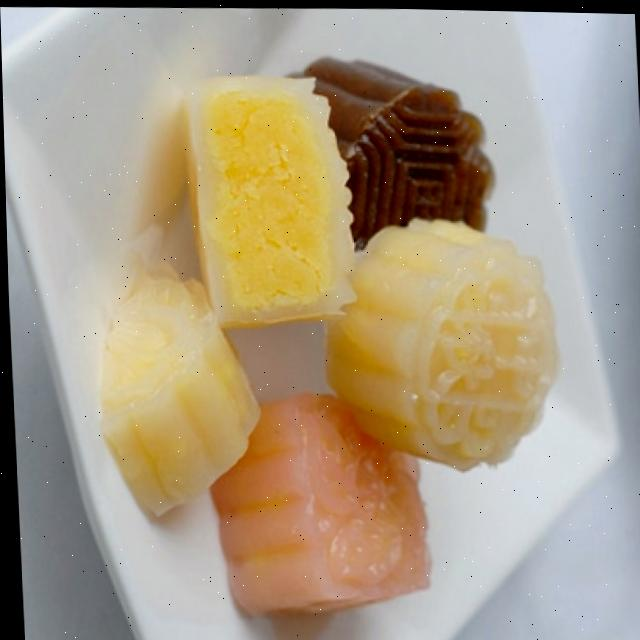蛋糕甜品: (41, 14, 590, 637)
